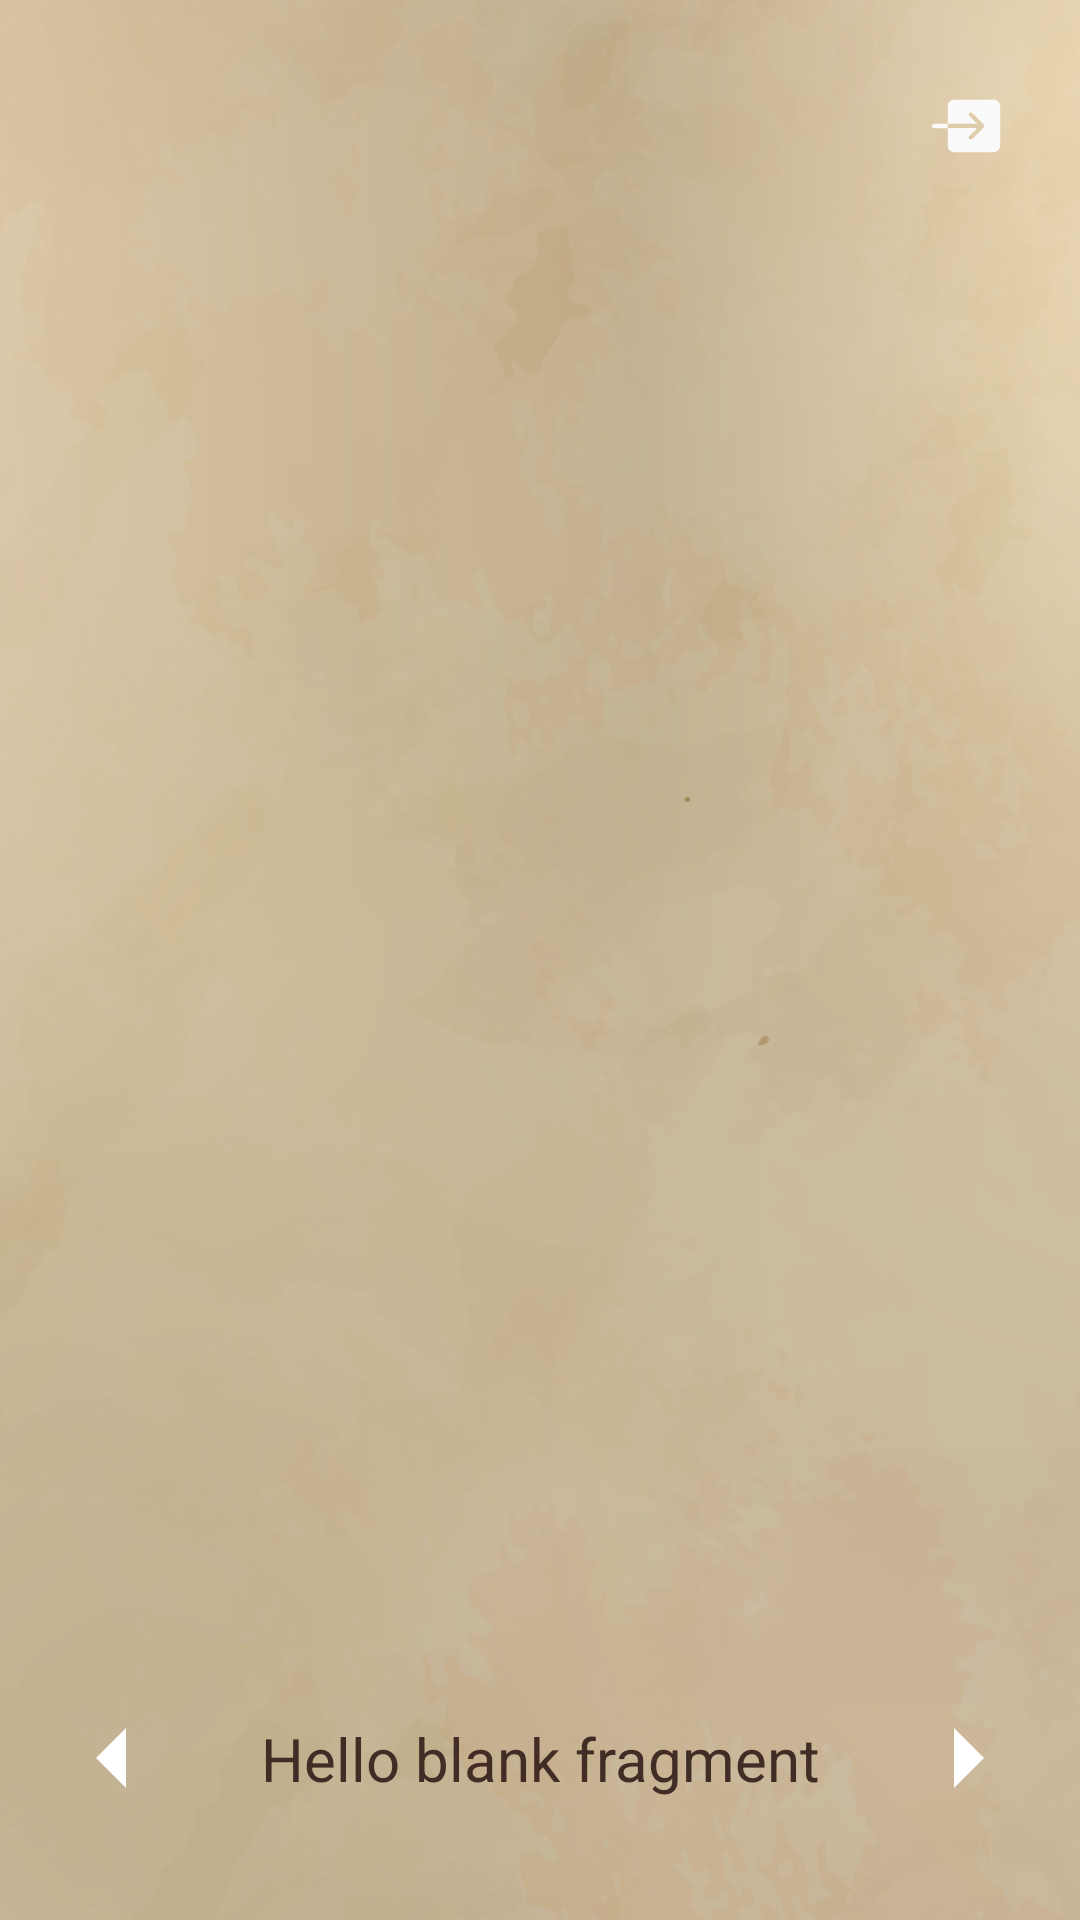

Icons on this 1080px x 1920px Android screen, each with the point to tap as (x=x, y=y):
back: (x=111, y=1758)
exit: (x=966, y=126)
forward: (x=969, y=1758)
